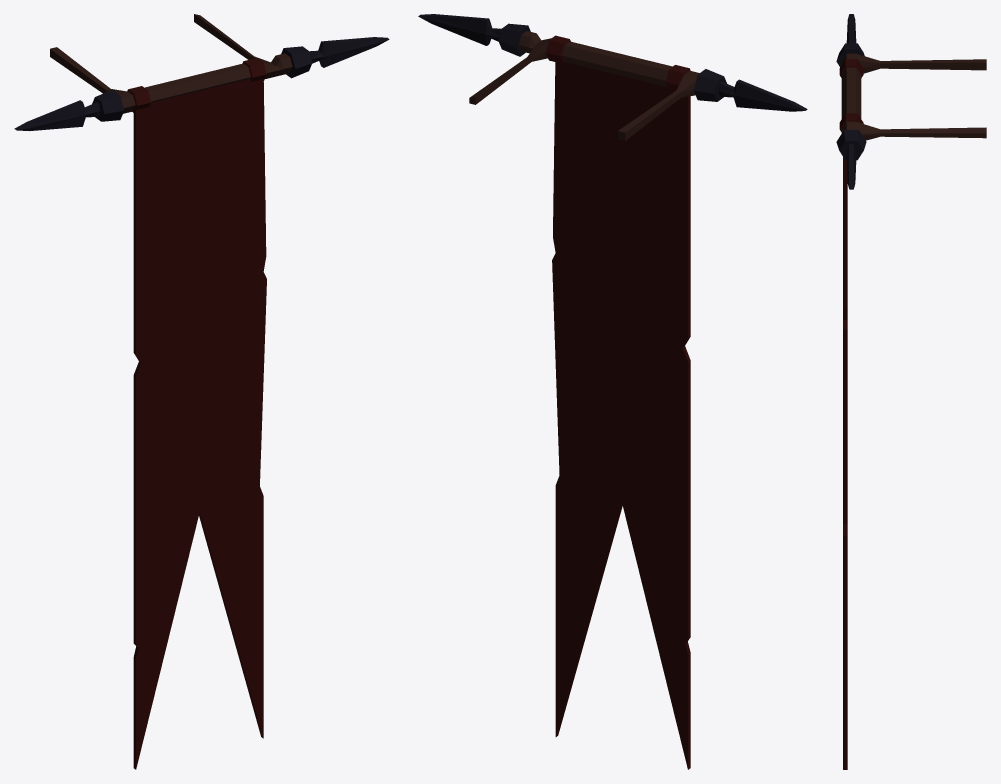
File: Banner_wall.obj
3 renders of one model, left to right at view 1: azimuth 30°, elevation 25°; view 2: azimuth 150°, elevation 25°; view 3: azimuth 270°, elevation 25°, orthographic. The views are drawn at different scales.
Visible parts, largest first — view 1: Banner_wall.001; view 2: Banner_wall.001; view 3: Banner_wall.001.
Boxes of the visible parts, box(x1,y1,x2,y2) form: Banner_wall.001: box(14, 14, 389, 769); Banner_wall.001: box(418, 14, 807, 769); Banner_wall.001: box(836, 14, 986, 769).
Bounding box in the file's own units: 1.64 × 2.85 × 0.5931.
